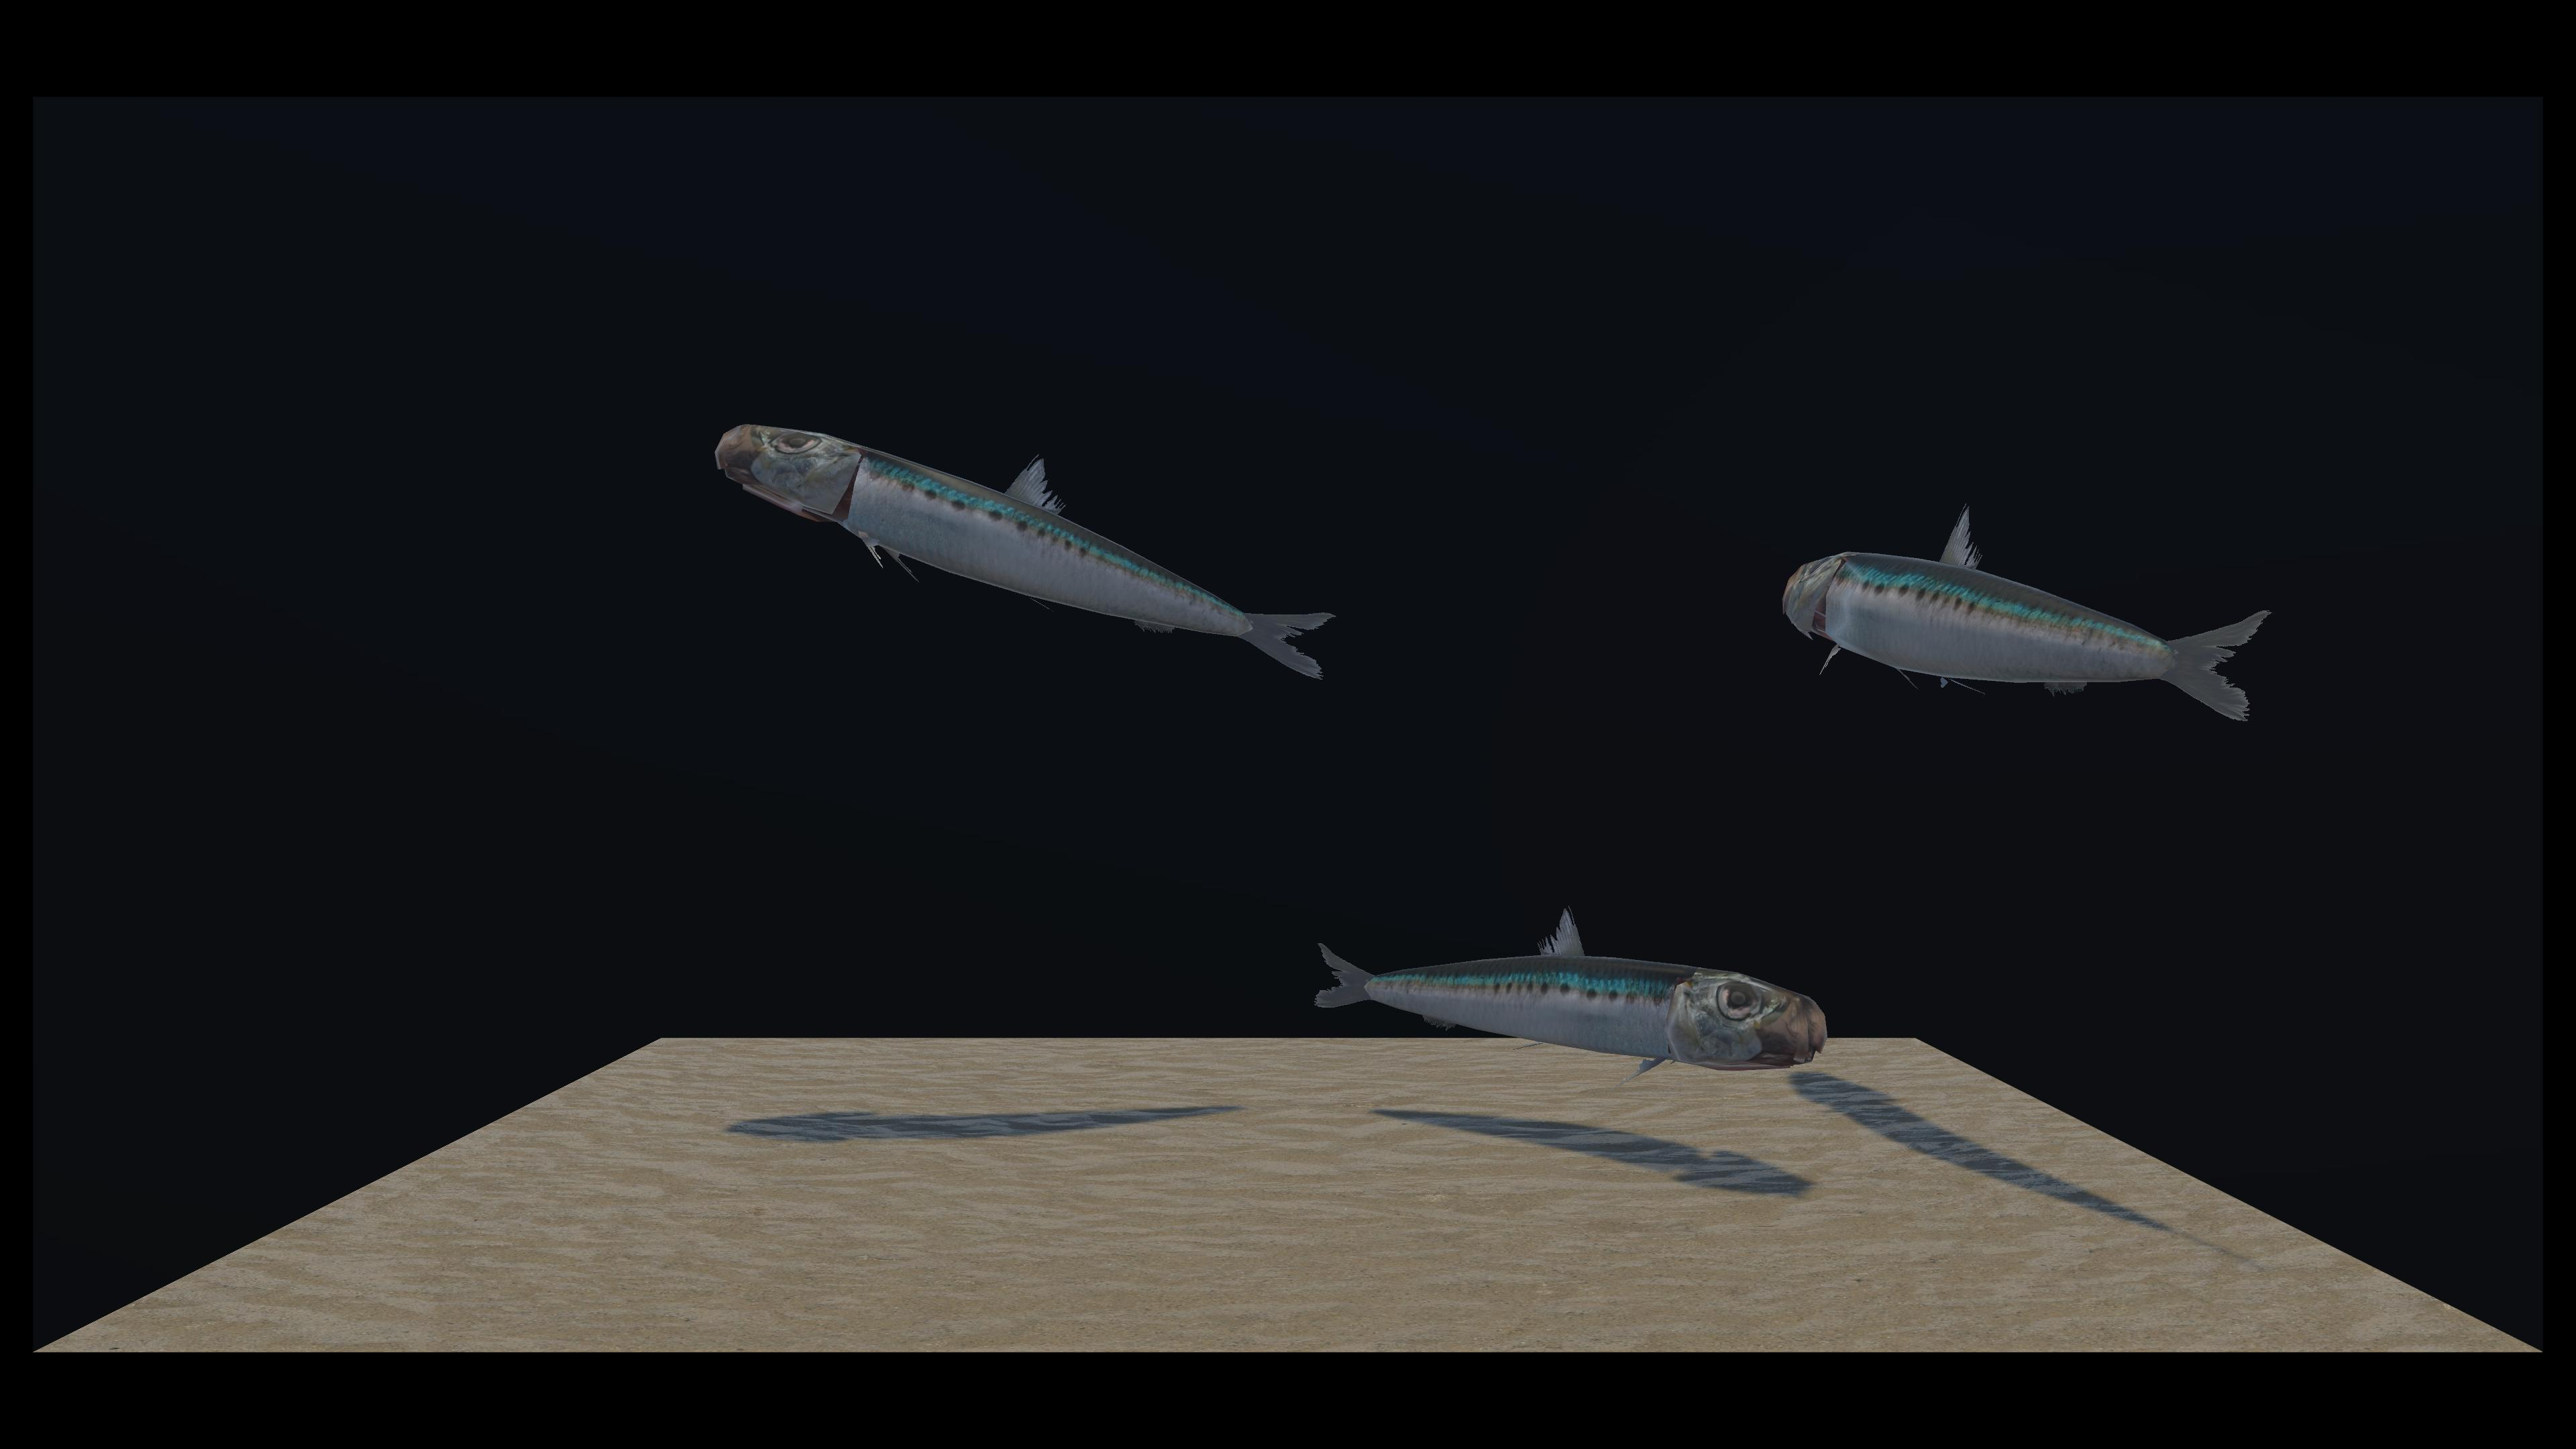Sardine_Front: (667, 341, 1799, 1097), (665, 520, 2265, 718), (755, 426, 1327, 678)
